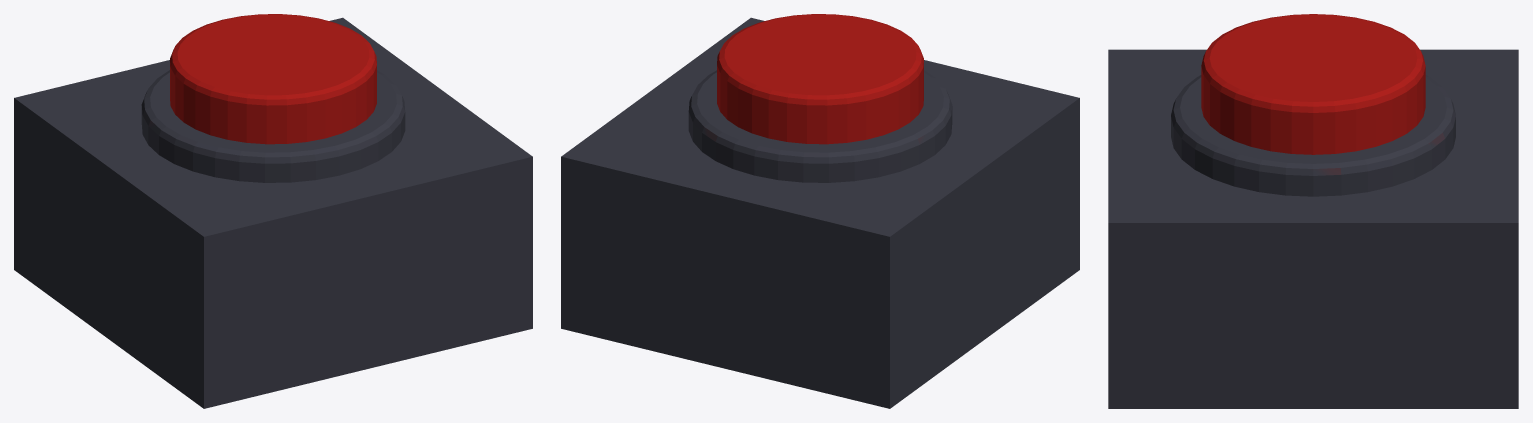
The model's file is Button.glb.
3 renders of one model, left to right at view 1: azimuth 30°, elevation 25°; view 2: azimuth 150°, elevation 25°; view 3: azimuth 270°, elevation 25°, orthographic. The views are drawn at different scales.
Parts seen in each view (by area): view 1: Cylinder; view 2: Cylinder; view 3: Cylinder.
Part boxes in pixels (x1,y1,x2,y2): Cylinder: (14,14,532,408); Cylinder: (561,14,1079,408); Cylinder: (1108,14,1518,408).
Bounding box in the file's own units: 2 × 1.42 × 2.
Materials: 2 (2 with a texture image).
